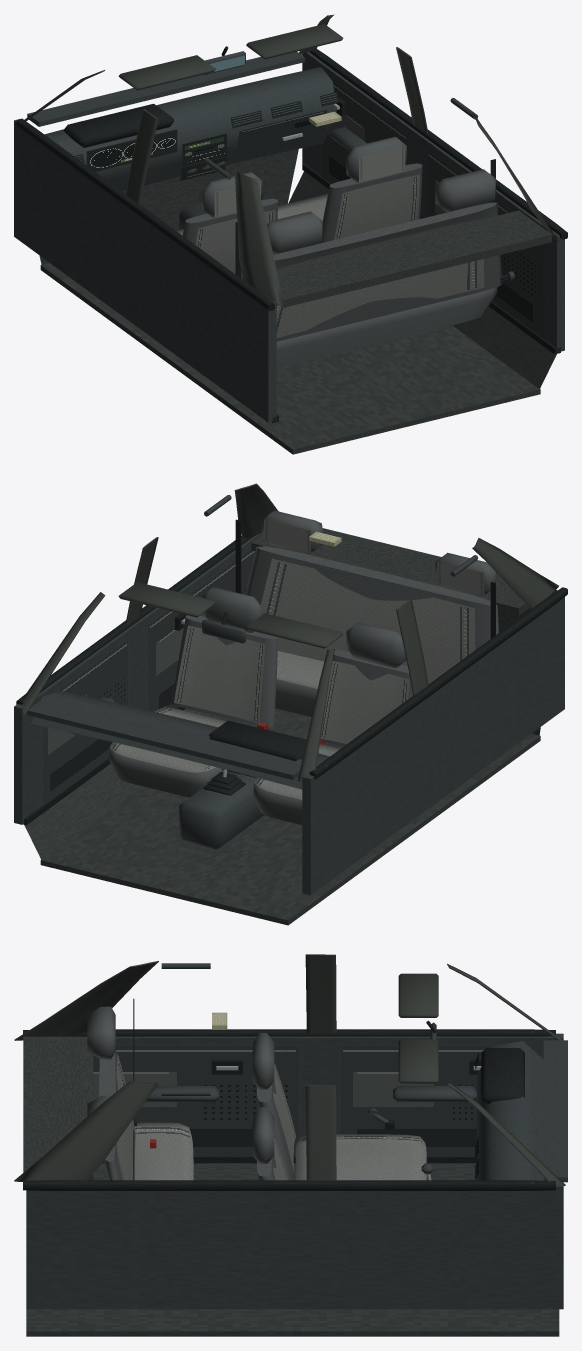
Rendered from sedan.glb.
3 views of the same model, one above another, from view 1: azimuth 30°, elevation 25°; view 2: azimuth 150°, elevation 25°; view 3: azimuth 270°, elevation 25° (orthographic). The views are drawn at different scales.
Visible parts, largest first — view 1: sedan; view 2: sedan; view 3: sedan.
Boxes of the visible parts, bbox=[...] form: sedan: bbox=[14, 14, 567, 454]; sedan: bbox=[14, 483, 567, 925]; sedan: bbox=[14, 954, 567, 1336].
Bounding box in the file's own units: 1.65 × 1.27 × 2.49.
1 material, 1 textured.
